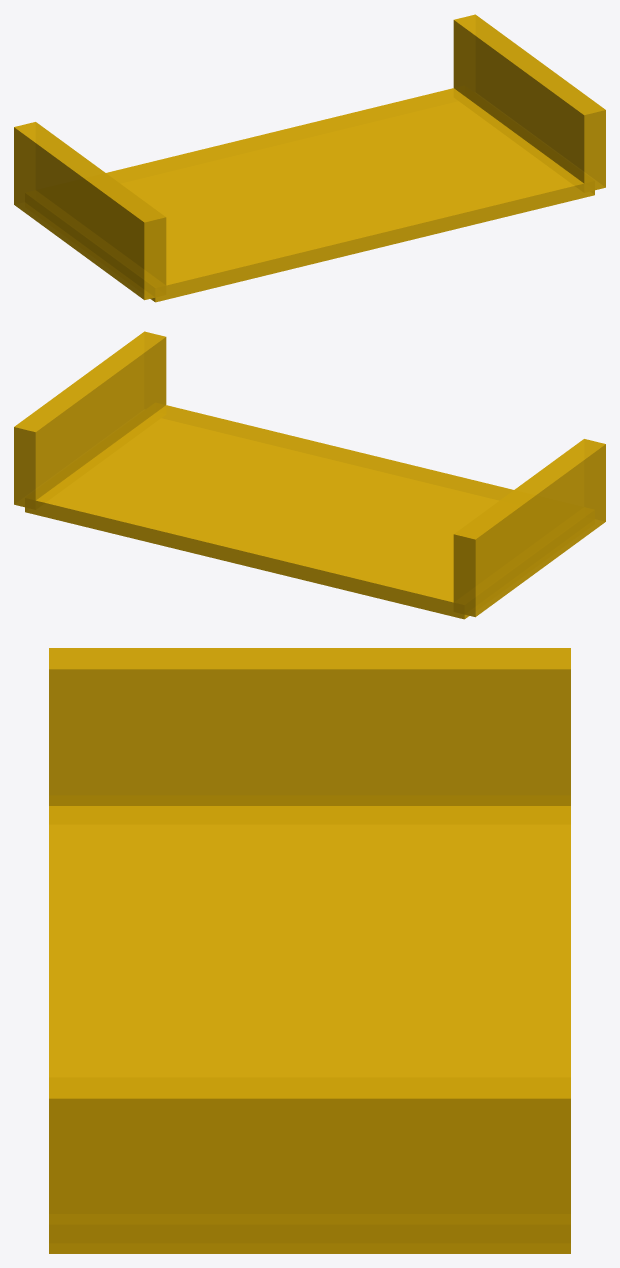
The model's file is SM_Bld_Balcony_Manor_02_Extension_01_Collision.fbx.
3 renders of one model, top to bottom at view 1: azimuth 30°, elevation 25°; view 2: azimuth 150°, elevation 25°; view 3: azimuth 270°, elevation 25°, orthographic. The views are drawn at different scales.
Visible parts, largest first — view 1: SM_Bld_Balcony_Manor_02_Extension_01_Collision; view 2: SM_Bld_Balcony_Manor_02_Extension_01_Collision; view 3: SM_Bld_Balcony_Manor_02_Extension_01_Collision.
Part boxes in pixels (bbox=[...]): SM_Bld_Balcony_Manor_02_Extension_01_Collision: bbox=[14, 14, 605, 302]; SM_Bld_Balcony_Manor_02_Extension_01_Collision: bbox=[14, 331, 605, 619]; SM_Bld_Balcony_Manor_02_Extension_01_Collision: bbox=[49, 648, 570, 1253].
Bounding box in the file's own units: 511 × 87.31 × 250.
